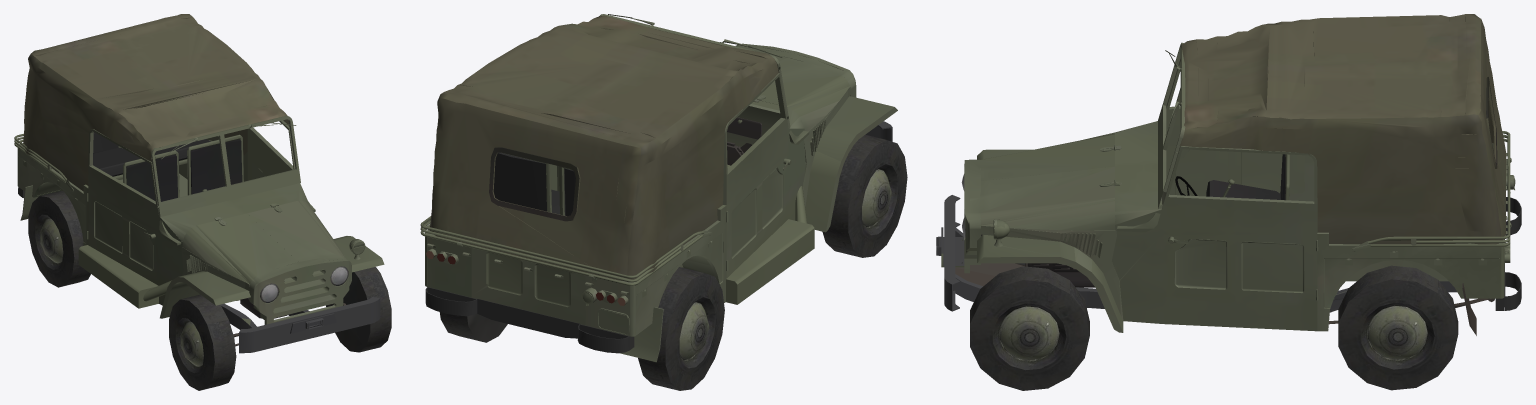
3 views of the same model, side by side, from view 1: azimuth 30°, elevation 25°; view 2: azimuth 150°, elevation 25°; view 3: azimuth 270°, elevation 25° (orthographic). The views are drawn at different scales.
Parts seen in each view (by area): view 1: ZastavaAR55_body, ZastavaAR55_wheel_front_right, ZastavaAR55_wheel_rear_right, ZastavaAR55_wheel_front_left; view 2: ZastavaAR55_body, ZastavaAR55_wheel_front_right, ZastavaAR55_wheel_rear_right, ZastavaAR55_wheel_rear_left; view 3: ZastavaAR55_body, ZastavaAR55_wheel_rear_left, ZastavaAR55_wheel_front_left.
Boxes of the visible parts, x1=… form: ZastavaAR55_body: x1=14, y1=14, x2=384, y2=353; ZastavaAR55_wheel_front_right: x1=169, y1=294, x2=236, y2=390; ZastavaAR55_wheel_rear_right: x1=28, y1=191, x2=90, y2=287; ZastavaAR55_wheel_front_left: x1=326, y1=267, x2=391, y2=352; ZastavaAR55_body: x1=420, y1=14, x2=897, y2=362; ZastavaAR55_wheel_front_right: x1=822, y1=134, x2=907, y2=257; ZastavaAR55_wheel_rear_right: x1=638, y1=267, x2=724, y2=390; ZastavaAR55_wheel_rear_left: x1=439, y1=312, x2=507, y2=342; ZastavaAR55_body: x1=936, y1=14, x2=1521, y2=335; ZastavaAR55_wheel_rear_left: x1=1338, y1=265, x2=1458, y2=390; ZastavaAR55_wheel_front_left: x1=970, y1=266, x2=1089, y2=390.
Size of the model in its own units: 1.79 by 1.94 by 3.75.
3 materials, 2 textured.
